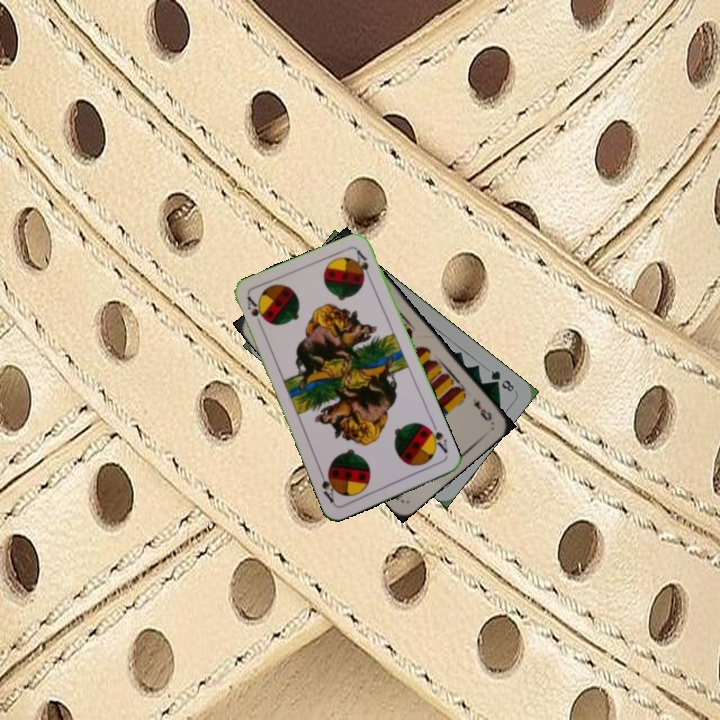E9: (469, 394, 495, 423)
G8: (487, 366, 517, 394)
SA: (243, 292, 269, 331), (422, 420, 450, 456)
